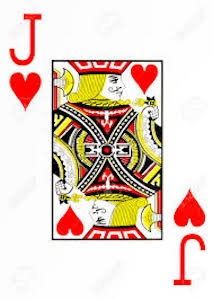JackOfHearts: (5, 6, 210, 293)
